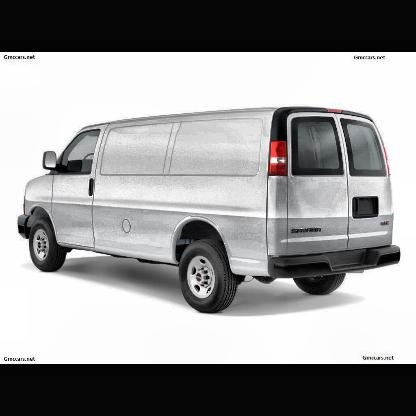GMC Savana Van 2012: (18, 107, 403, 313)
